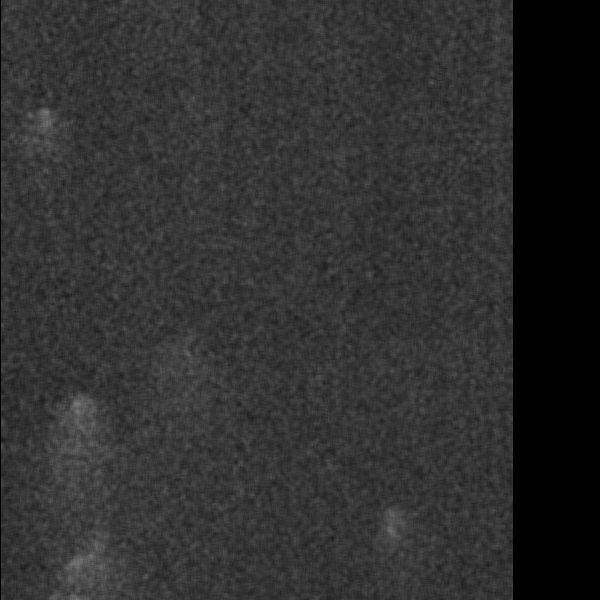spark: (68, 390, 91, 489), (376, 496, 406, 563), (30, 100, 56, 173), (53, 552, 106, 581)
